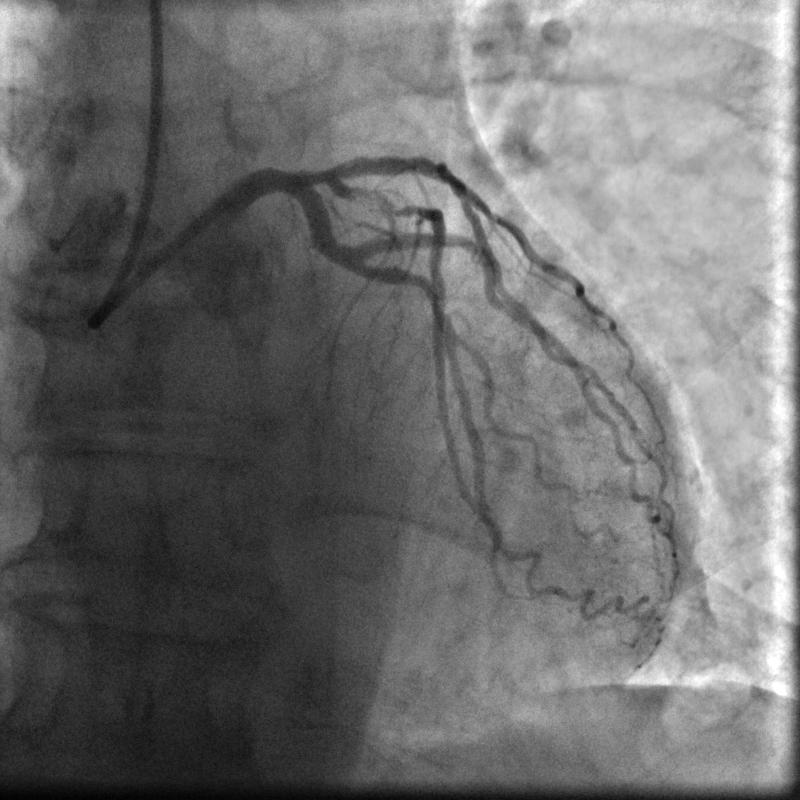Stenosis: (344, 177, 413, 221)
